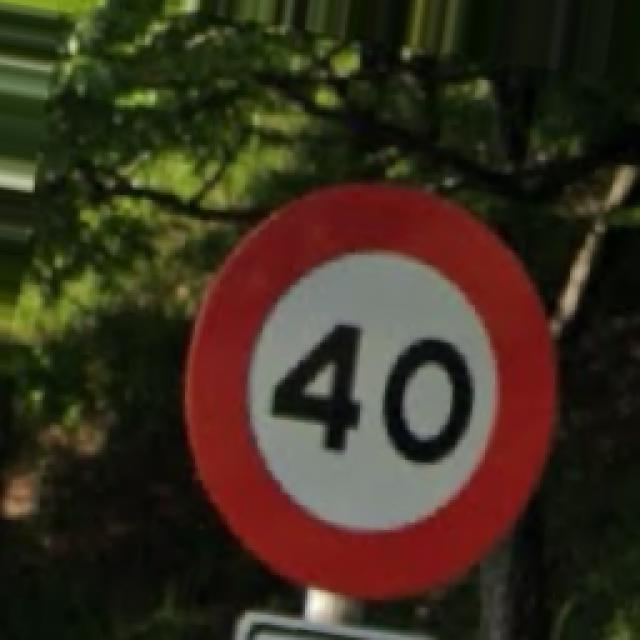Speed Limit -40-: (188, 188, 552, 592)
